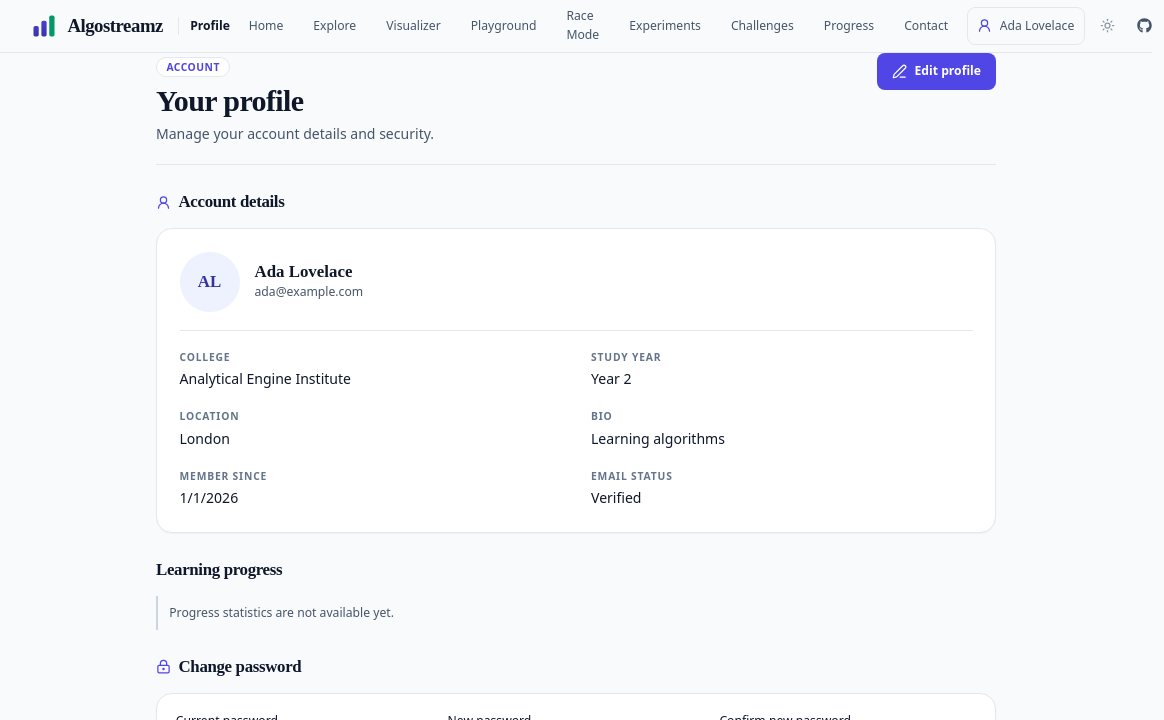
Test: ProfilePage › edits and saves profile details and immediately updates the navbar
Expected: the link with aria-label "Open profile for Ada Lovelace" is shown, [967, 7, 1085, 44]
Click the button "Edit profile": point(936, 71) [877, 52, 996, 90]
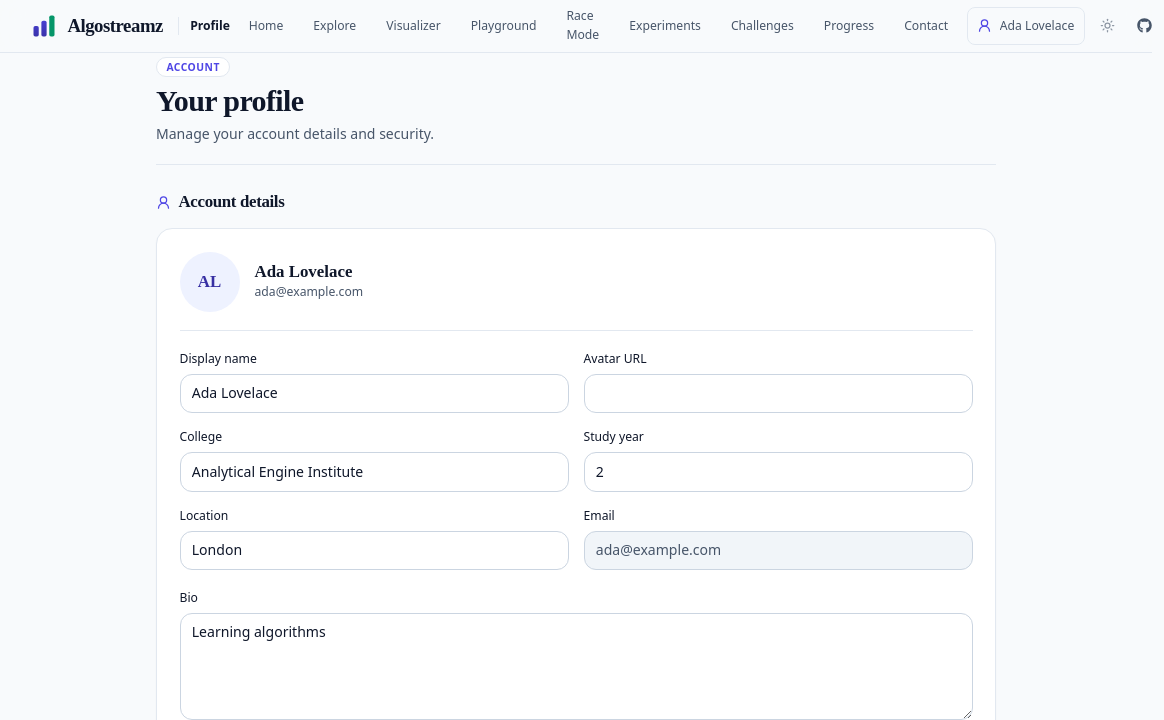
Replace the text in the field labelled "Display name" with "Ada Byron": point(374, 394) [180, 374, 568, 413]
(page scrolled)
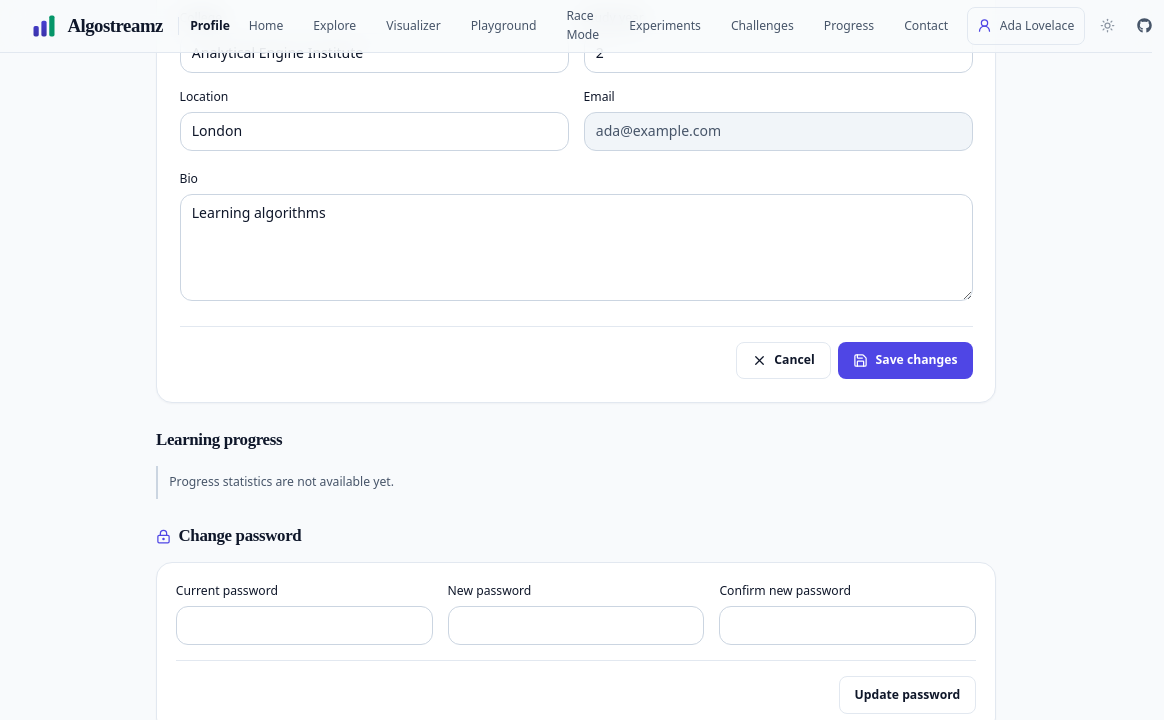
Click the button "Save changes": point(905, 360) [838, 342, 972, 379]
(page scrolled)
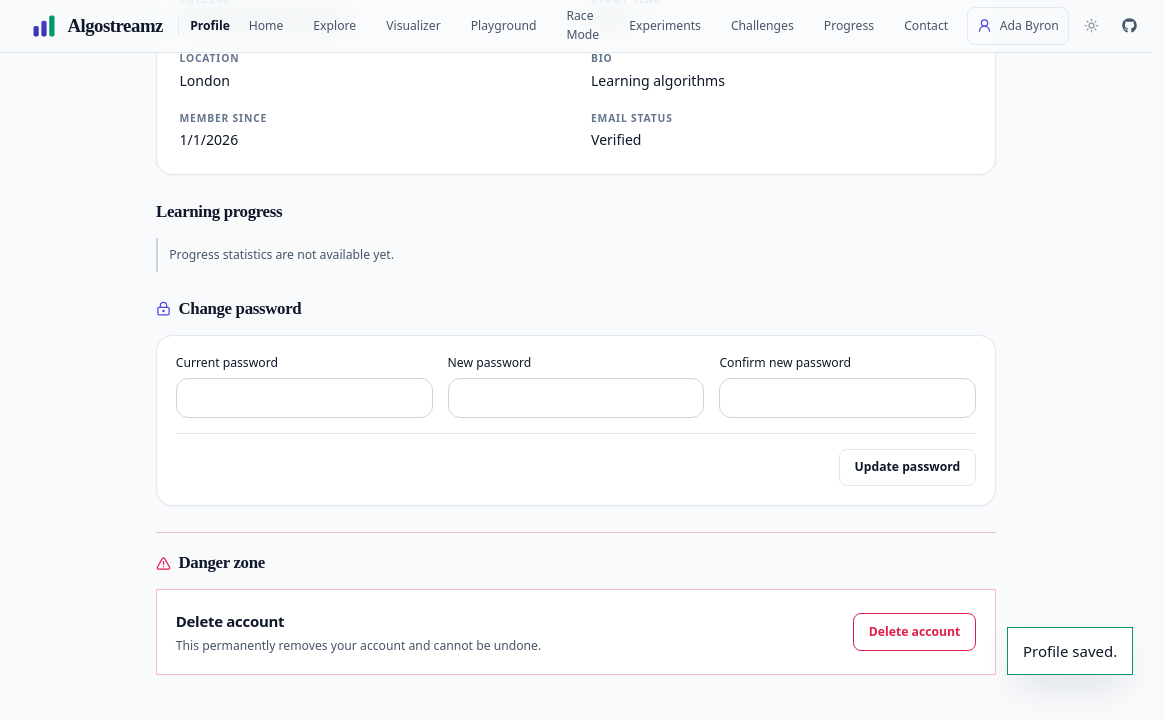
Now the text "Profile saved." is shown, box [1007, 626, 1133, 675]
Now the link with aria-label "Open profile for Ada Byron" is shown, box [967, 7, 1069, 44]
